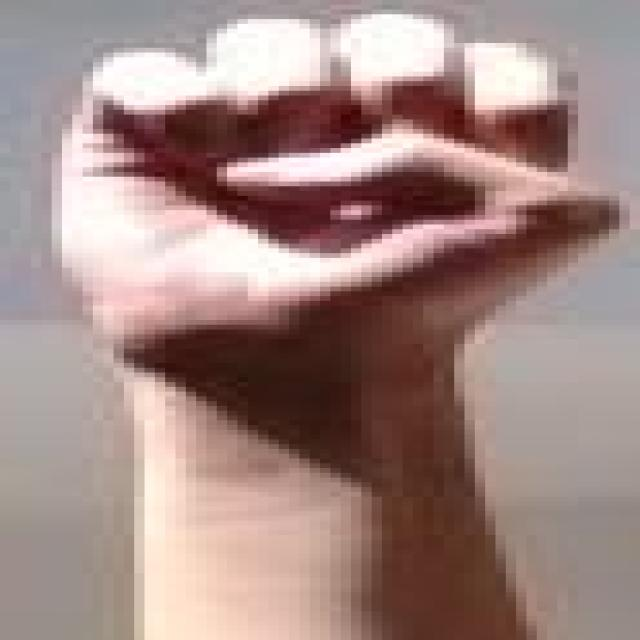E: (12, 2, 640, 359)
